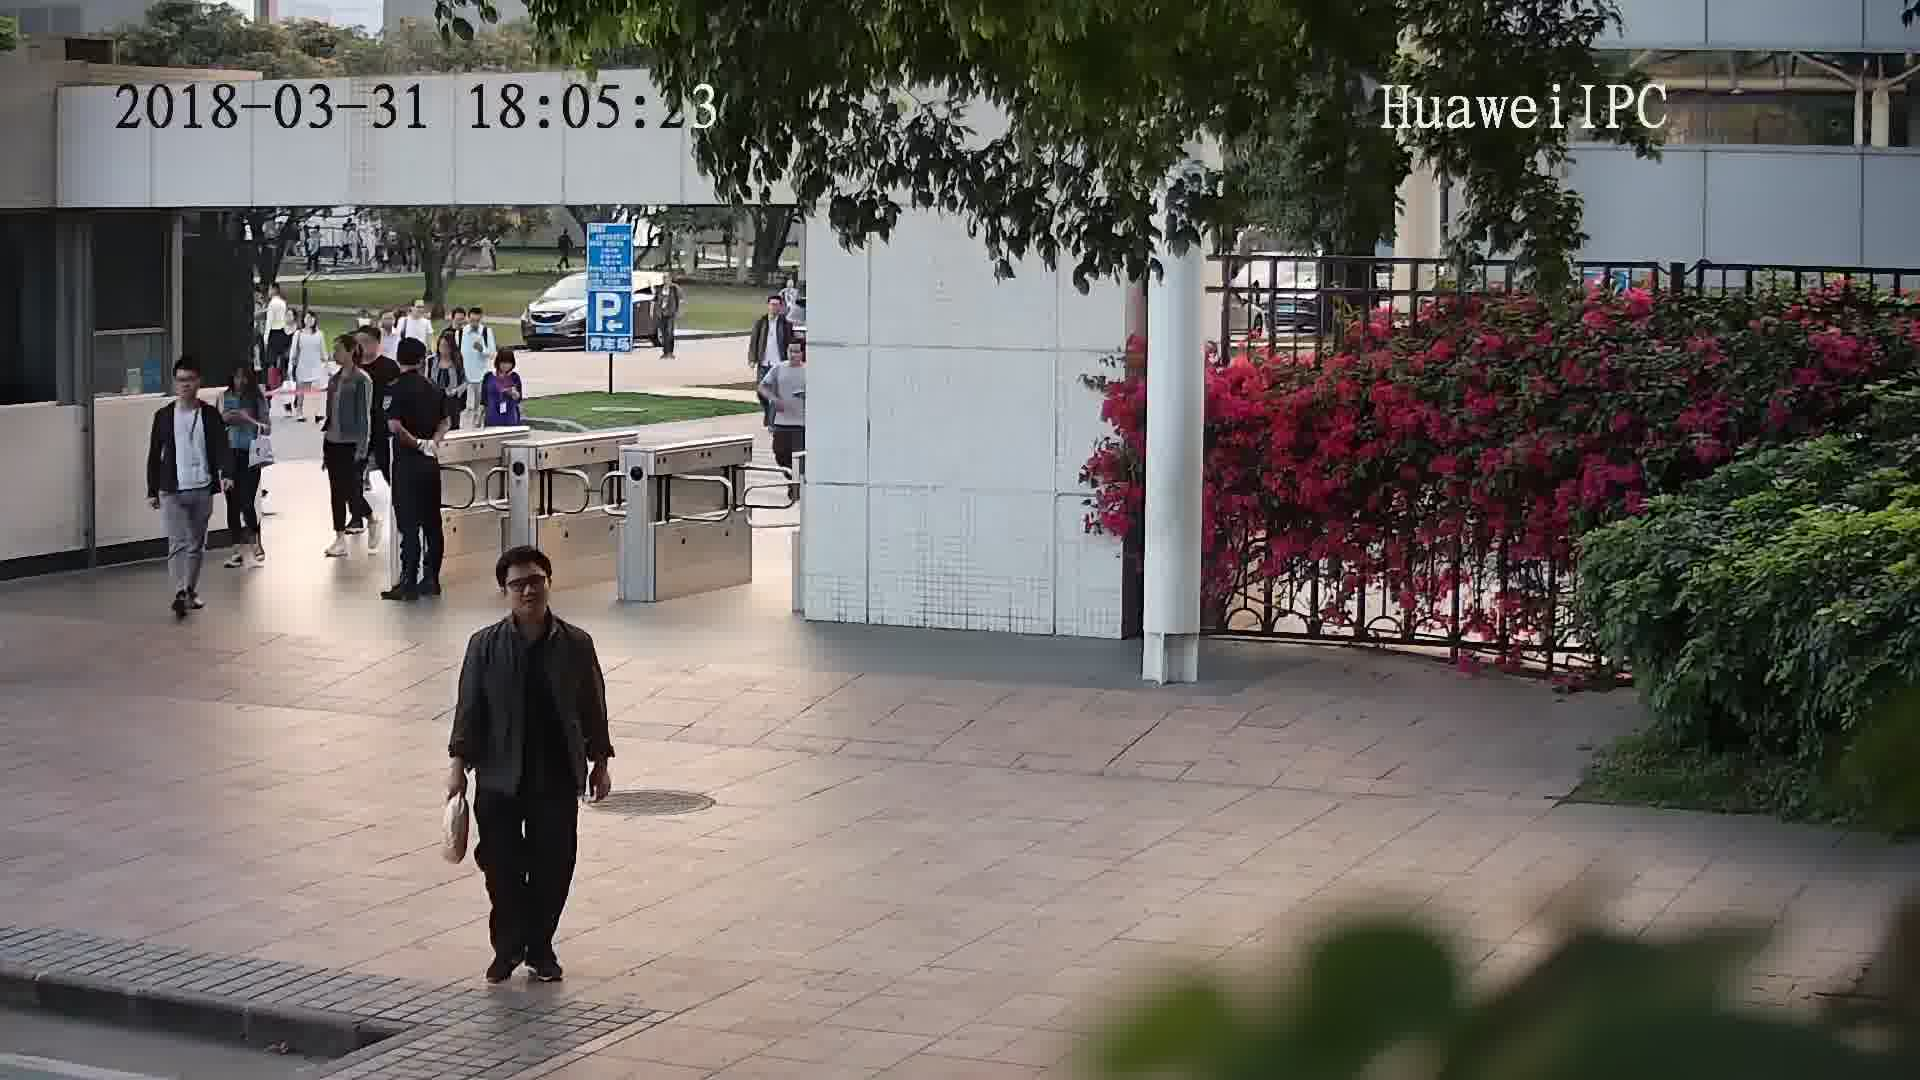face: (497, 556, 557, 616)
person: (464, 539, 591, 668), (149, 353, 220, 428), (388, 336, 441, 403), (323, 332, 369, 394), (352, 322, 405, 376), (219, 356, 267, 407), (767, 336, 813, 384), (427, 330, 469, 381), (482, 349, 527, 390), (752, 290, 790, 338), (397, 296, 434, 335), (460, 302, 494, 337), (292, 307, 323, 343), (263, 280, 292, 315), (652, 267, 681, 299), (376, 308, 403, 341), (442, 302, 466, 336)
